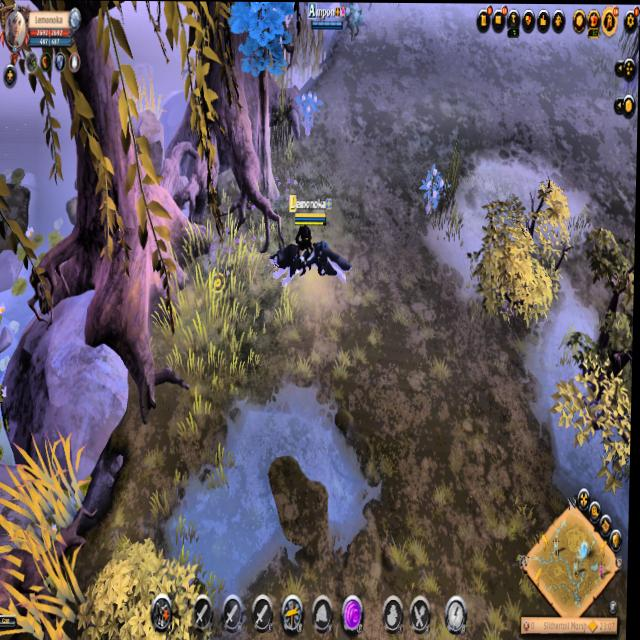fiber tier 4: (292, 86, 325, 139), (418, 163, 449, 219)
